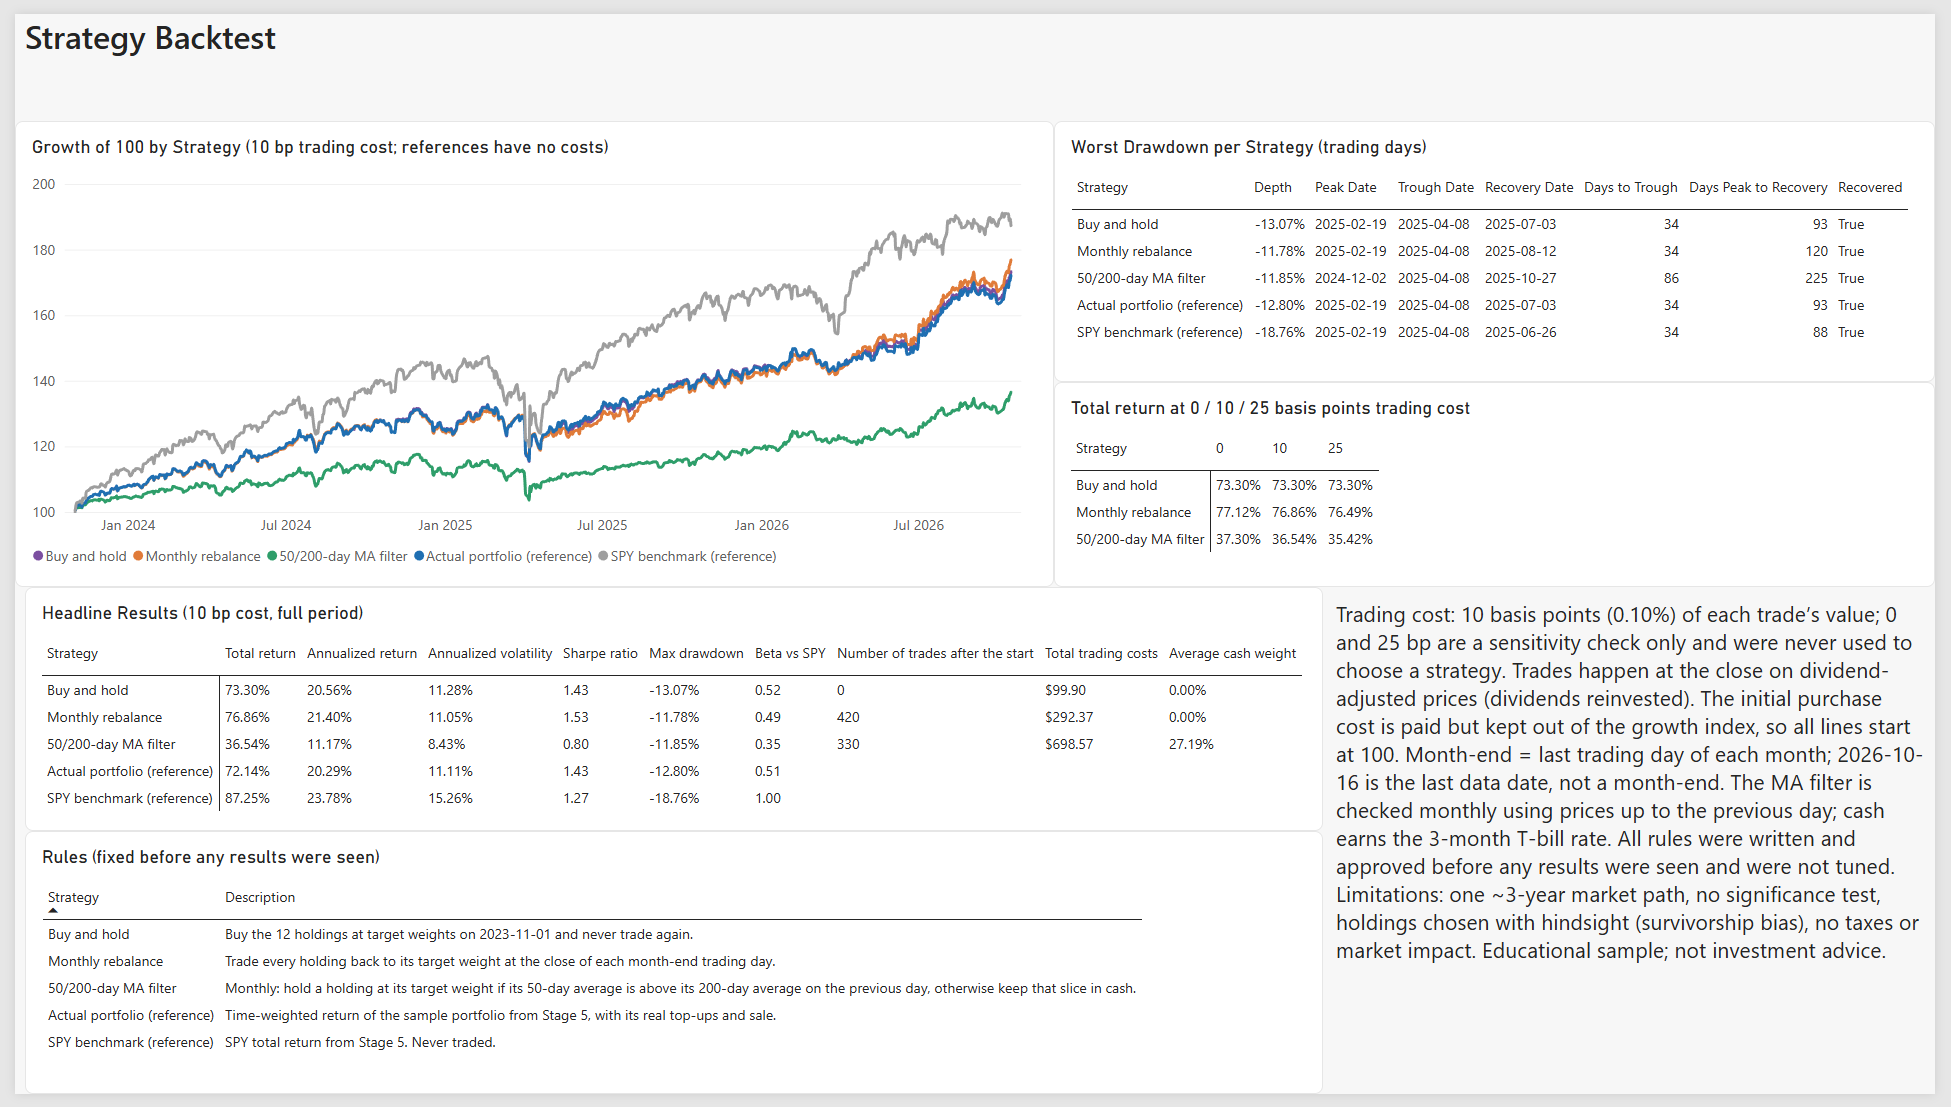

The dashboard page shown, as its layout file describes it:
{"tool":"powerbi","page":{"name":"Strategy Backtest","canvas":[1920,1080],"ordinal":4},"visuals":[{"type":"textbox","box":[10.3,0,330.9,46.5],"z":0},{"type":"lineChart","title":"Growth of 100 by Strategy (10 bp trading cost; references have no costs)","fields":{"Category":["dim_date.date_key"],"Series":["dim_strategy.strategy_name"],"Y":["Sum(fact_backtest_daily.index_value)"]},"box":[0,106.8,1039.4,465.7],"z":1000},{"type":"pivotTable","title":"Headline Results (10 bp cost, full period)","fields":{"Columns":["fact_backtest_summary.metric_name"],"Rows":["dim_strategy.strategy_name"],"Values":["_Measures.Backtest Value"]},"box":[10.4,572.6,1297.6,244.8],"z":2000},{"type":"pivotTable","title":"Total return at 0 / 10 / 25 basis points trading cost","fields":{"Columns":["fact_backtest_summary.cost_bps"],"Rows":["dim_strategy.strategy_name"],"Values":["_Measures.Backtest Value"]},"box":[1039.4,368.2,880.6,204.3],"z":3000},{"type":"tableEx","title":"Worst Drawdown per Strategy (trading days)","fields":{"Values":["dim_strategy.strategy_name","Sum(fact_backtest_worst_drawdown.depth)","fact_backtest_worst_drawdown.peak_date","fact_backtest_worst_drawdown.trough_date","fact_backtest_worst_drawdown.recovery_date","Sum(fact_backtest_worst_drawdown.days_to_trough)","Sum(fact_backtest_worst_drawdown.days_peak_to_recovery)","fact_backtest_worst_drawdown.recovered"]},"box":[1039.4,106.8,880.6,261.4],"z":4000},{"type":"tableEx","title":"Rules (fixed before any results were seen)","fields":{"Values":["dim_strategy.strategy_name","dim_strategy.description"]},"box":[10.4,817.4,1297.6,262.4],"z":5000},{"type":"textbox","box":[1321,585,590,483],"z":6000}]}

Visuals, with their boxes in screenshot pixels (x1, y1, x2, y2), scaled from the page's 1920x1080 canvas onto the 1951x1107 screenshot:
textbox: detection(10, 0, 347, 48)
"Growth of 100 by Strategy (10 bp trading cost; references have no costs)" lineChart: detection(0, 109, 1056, 587)
"Headline Results (10 bp cost, full period)" pivotTable: detection(11, 587, 1329, 838)
"Total return at 0 / 10 / 25 basis points trading cost" pivotTable: detection(1056, 377, 1950, 587)
"Worst Drawdown per Strategy (trading days)" tableEx: detection(1056, 109, 1950, 377)
"Rules (fixed before any results were seen)" tableEx: detection(11, 838, 1329, 1106)
textbox: detection(1342, 600, 1942, 1095)
